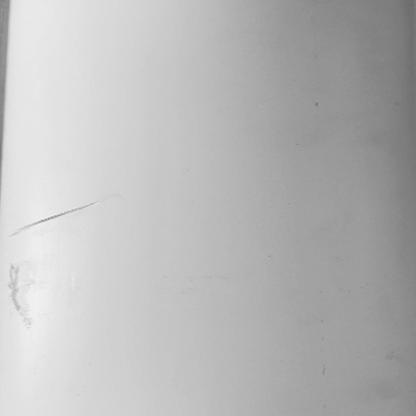sunshang: (4, 198, 106, 238), (8, 264, 41, 327)
